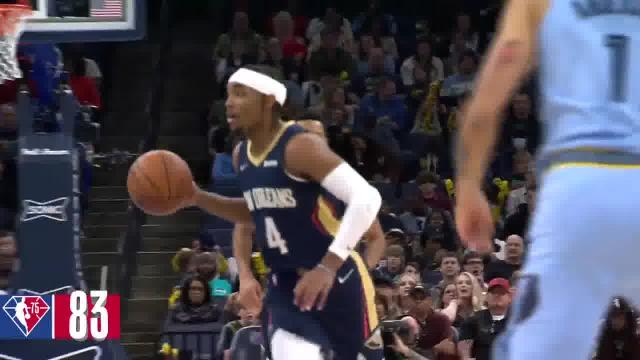ball-handler: (118, 59, 384, 360)
player: (453, 0, 640, 360)
